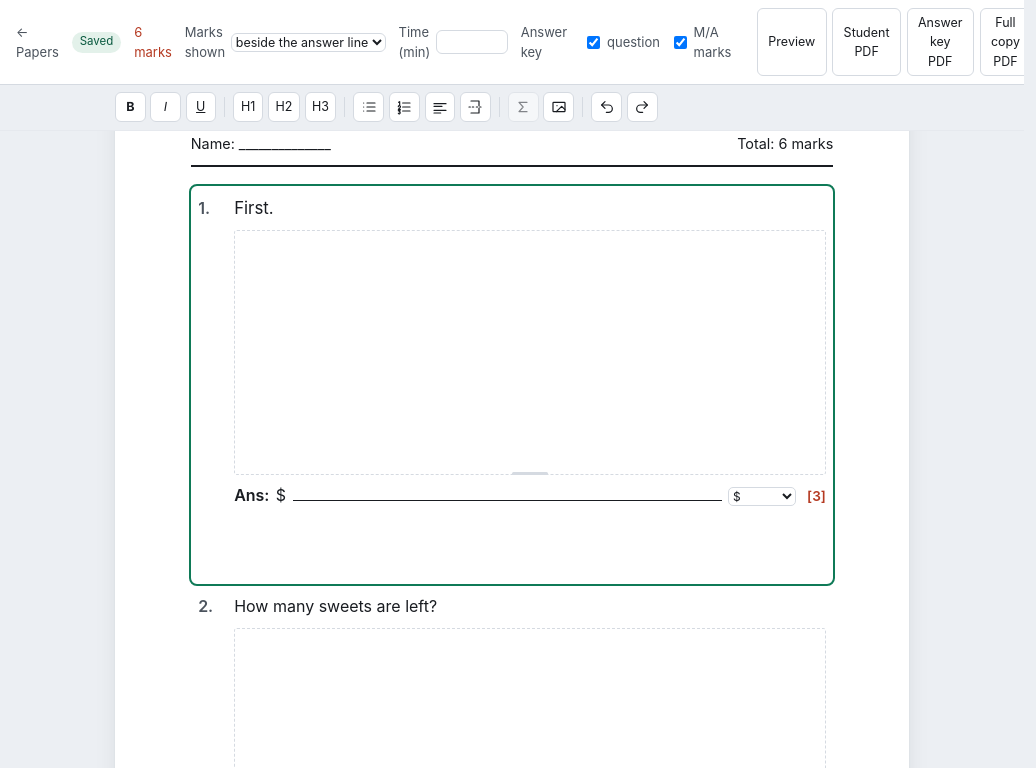
Test: EditorPage inspector (EXA-93) › keeps status off the page and shows it in the inspector for the block you click
The image size is (1036, 768).
(page scrolled)
Check: the text "First." is shown, box [234,198,274,218]
Click the element with test id "question-block": coordinates (512, 385) [191,186,833,584]
(page scrolled)
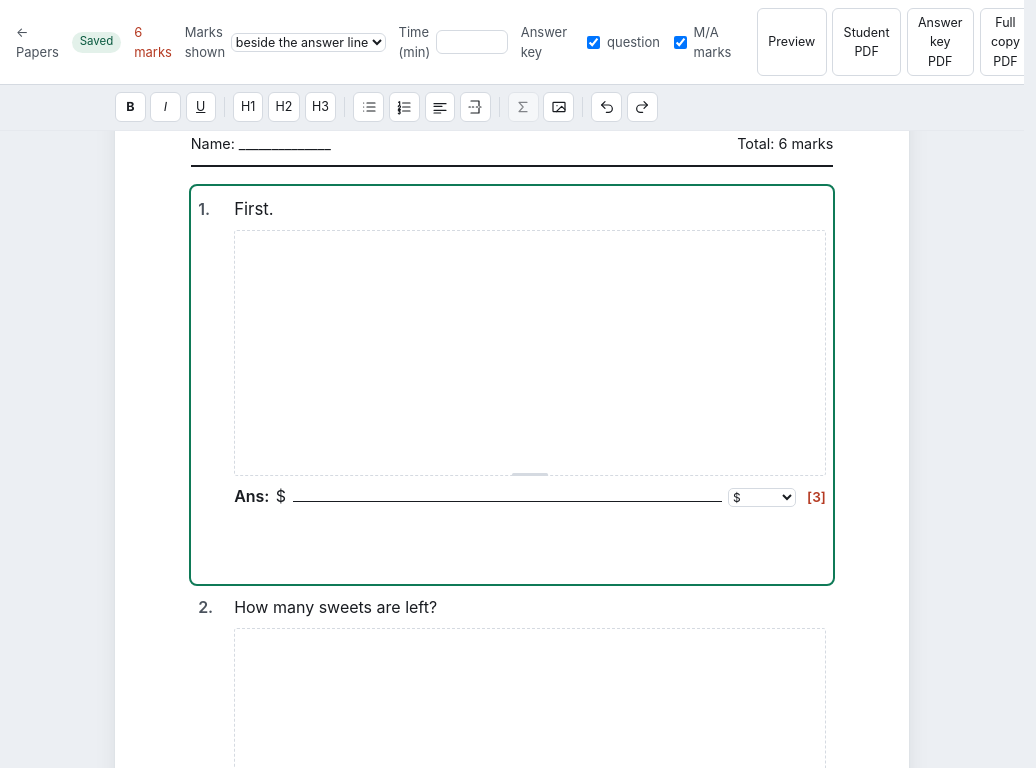
Click the text box with class "ff-body": coordinates (336, 607) [234,597,437,617]
(page scrolled)
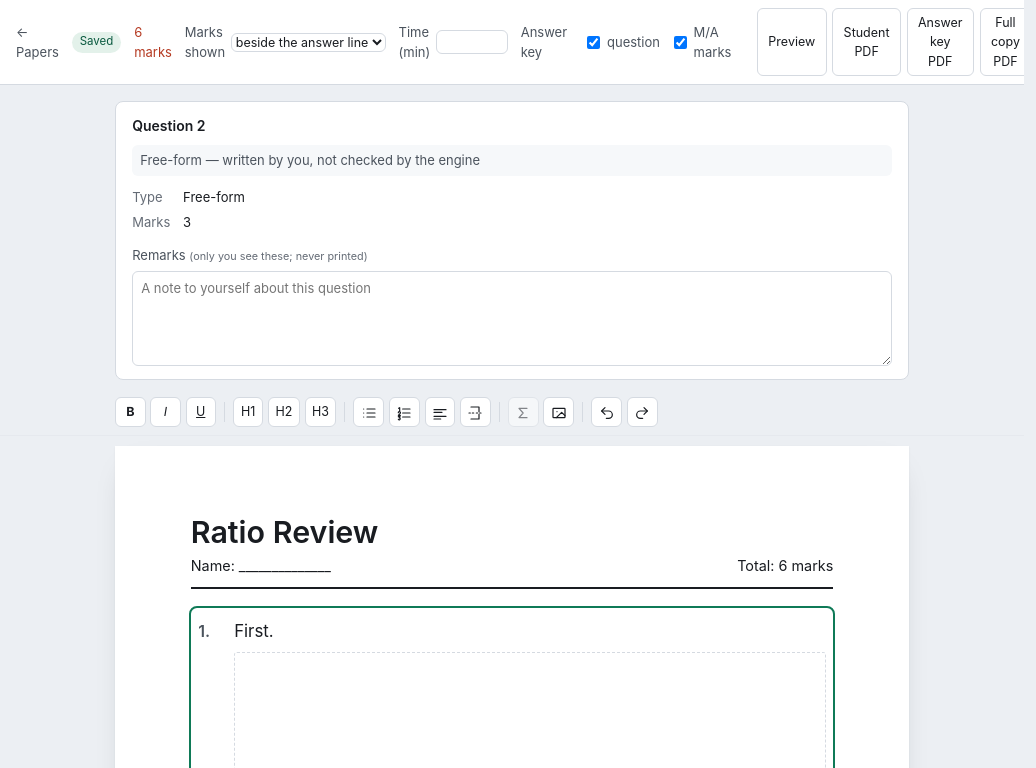
Check: the element named "Inspector" shows "Question 2", box [132,117,206,134]
Check: the element named "Inspector" shows "not checked by the engine", box [140,152,480,168]
